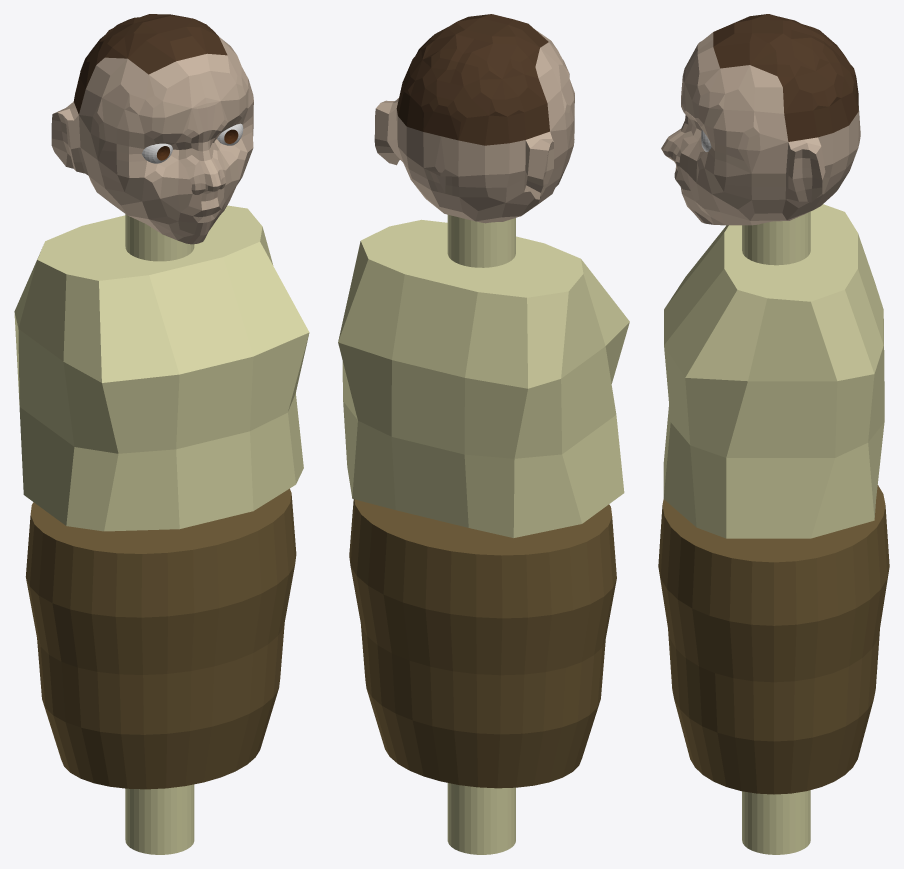
Rendered from Bookwarden – Player Placeholder.fbx.
3 views of the same model, side by side, from view 1: azimuth 30°, elevation 25°; view 2: azimuth 150°, elevation 25°; view 3: azimuth 270°, elevation 25° (orthographic).
Parts seen in each view (by area): view 1: Player-Placeholder; view 2: Player-Placeholder; view 3: Player-Placeholder.
Boxes of the visible parts, left/top/right/bottom form: Player-Placeholder: left=14, top=14, right=309, bottom=854; Player-Placeholder: left=338, top=14, right=629, bottom=854; Player-Placeholder: left=658, top=14, right=889, bottom=854.
Bounding box in the file's own units: 49.42 × 158 × 40.72.
